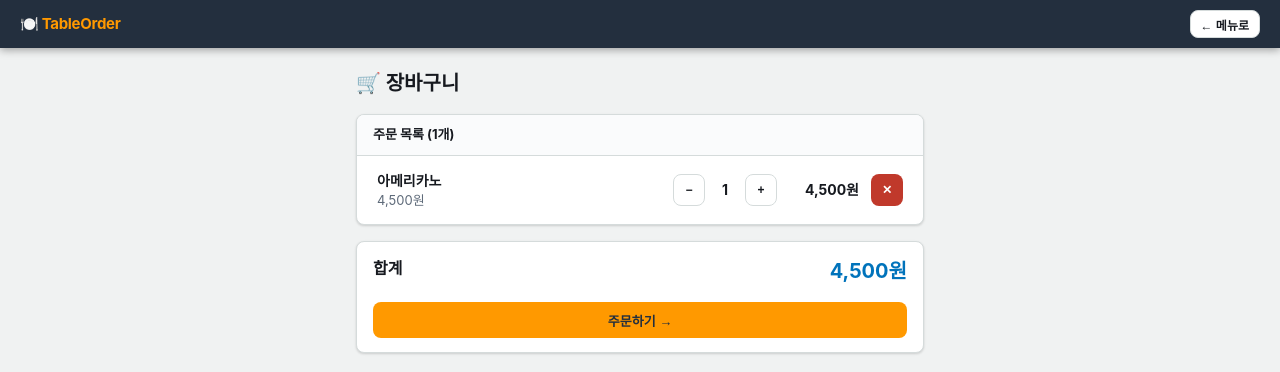
Test: CartPage › 삭제 버튼 클릭 시 항목 제거
The image size is (1280, 372).
Click the button with test id "cart-delete-1": (887, 190) [871,174,903,206]
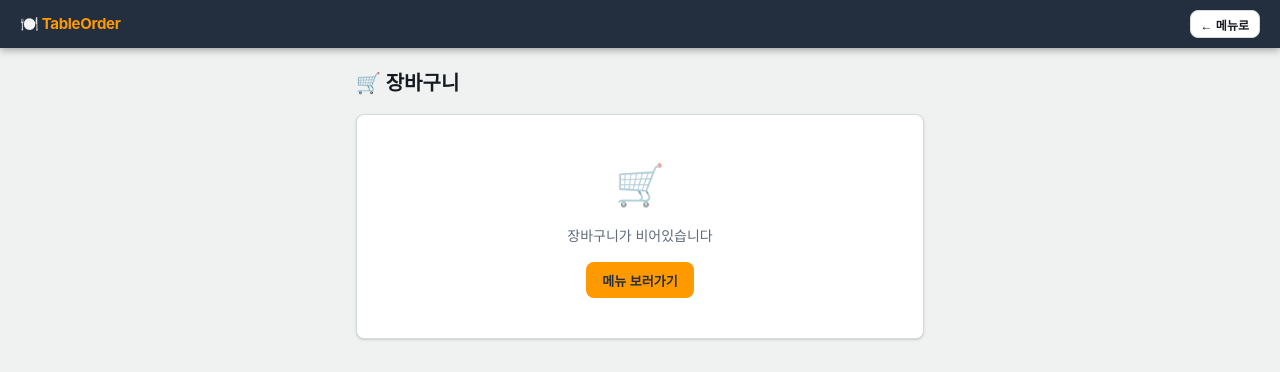
Check: the element with test id "cart-item-1" is gone
